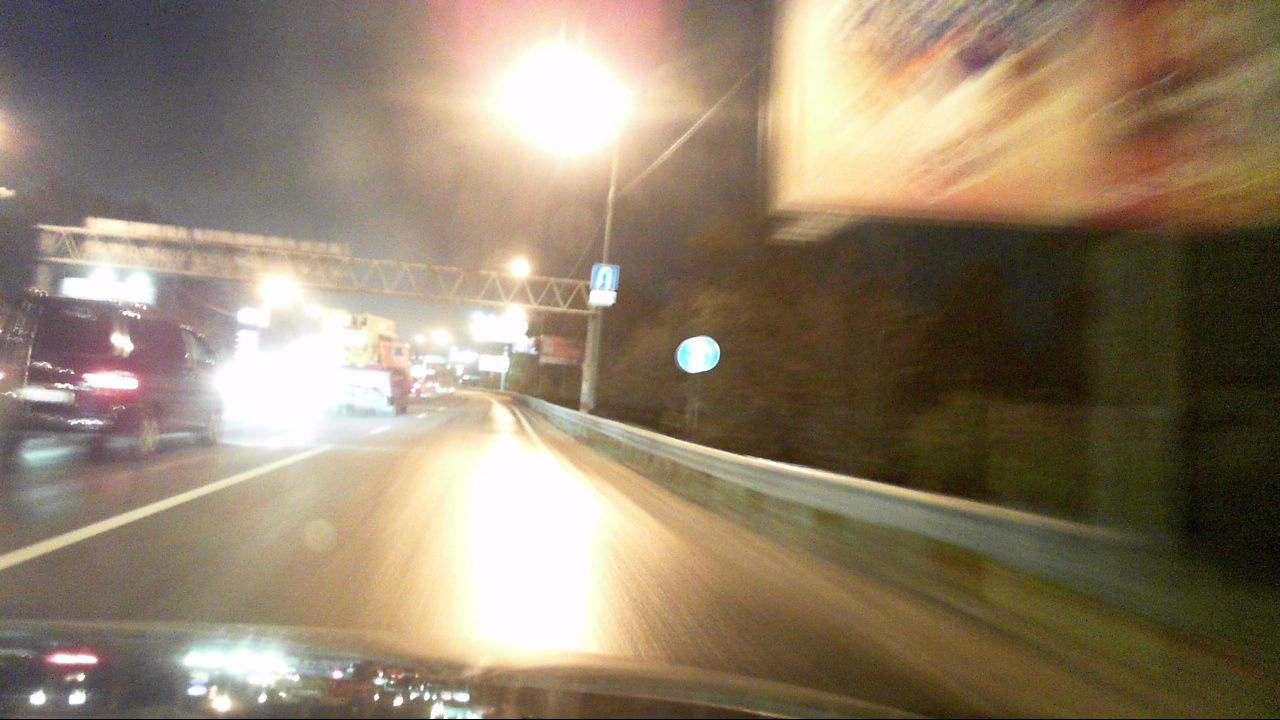U-turn: (593, 264, 616, 290)
